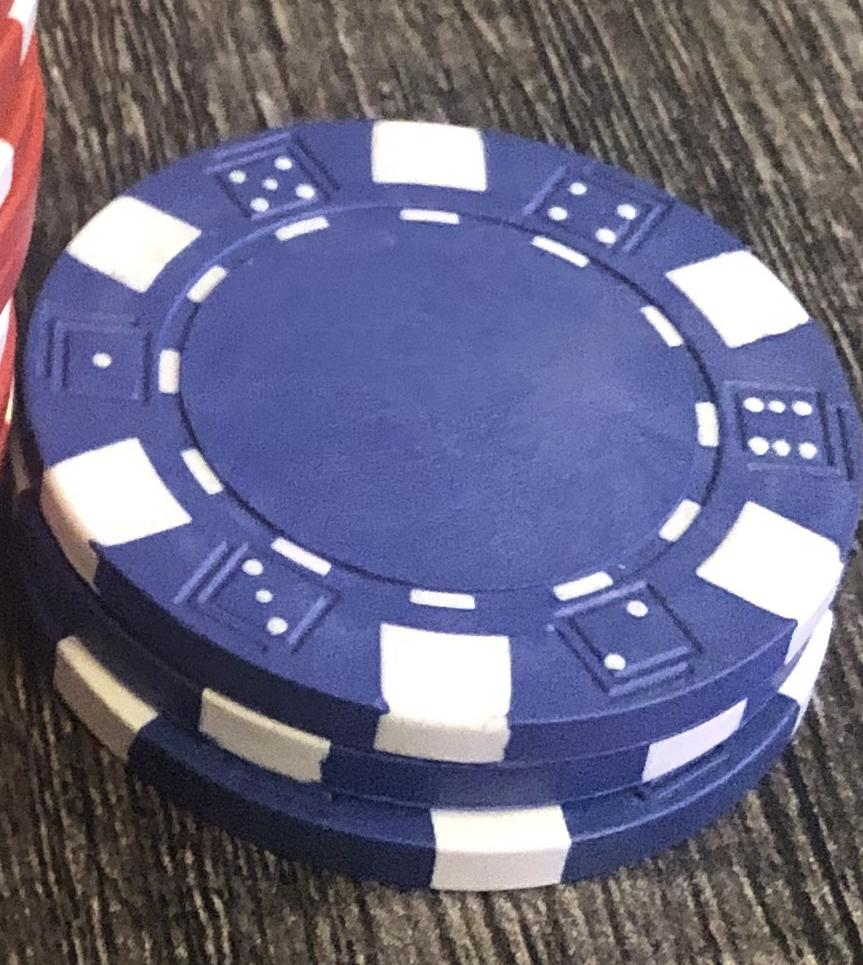Chip: (1, 1, 863, 965)
